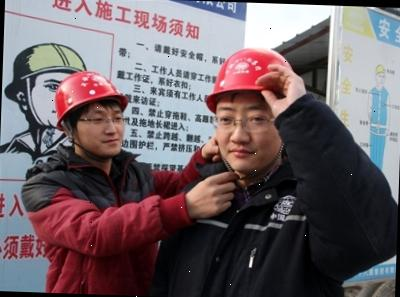helmet: (205, 43, 308, 103), (50, 66, 131, 124)
no_wear: (32, 151, 154, 295)
wear: (164, 166, 345, 297)
